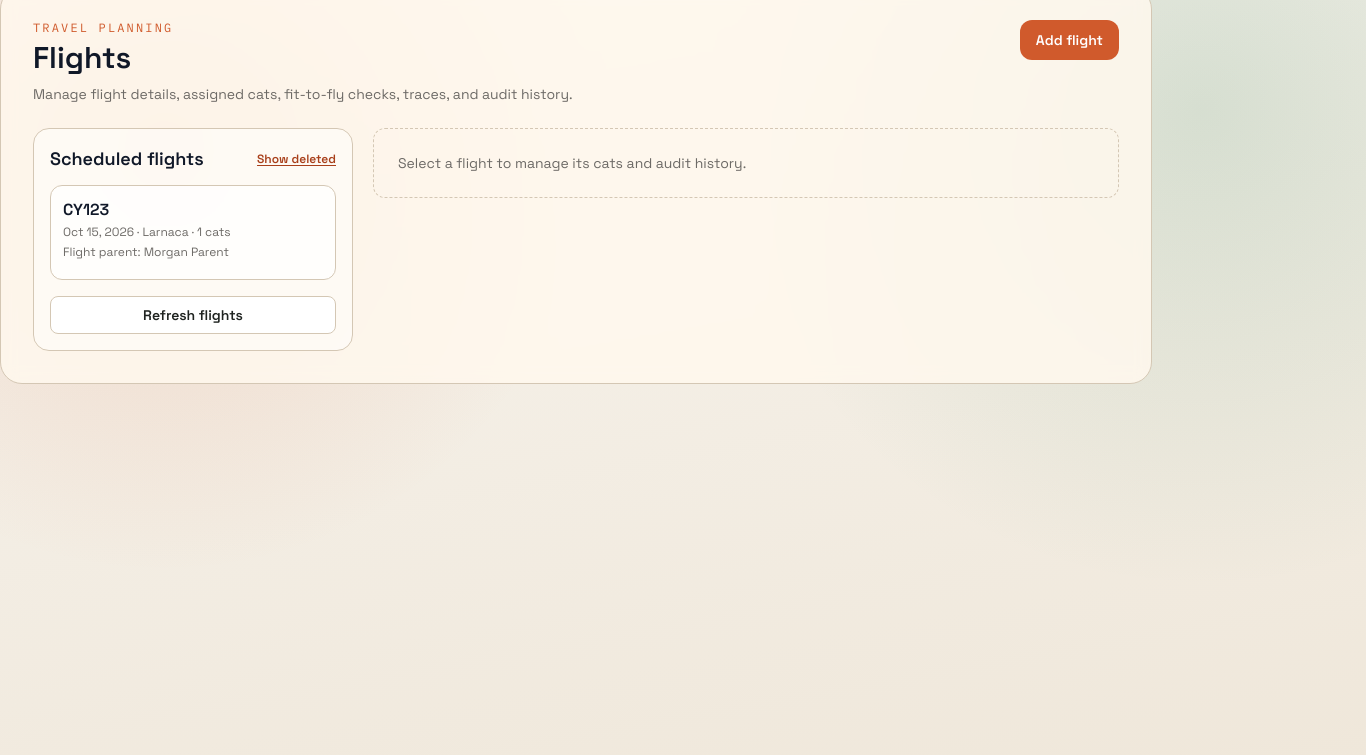
Test: FlightsClient › collapses audit history by default and pages through events
Click the button "CY123" at point(193, 229), box [63,198,323,260]
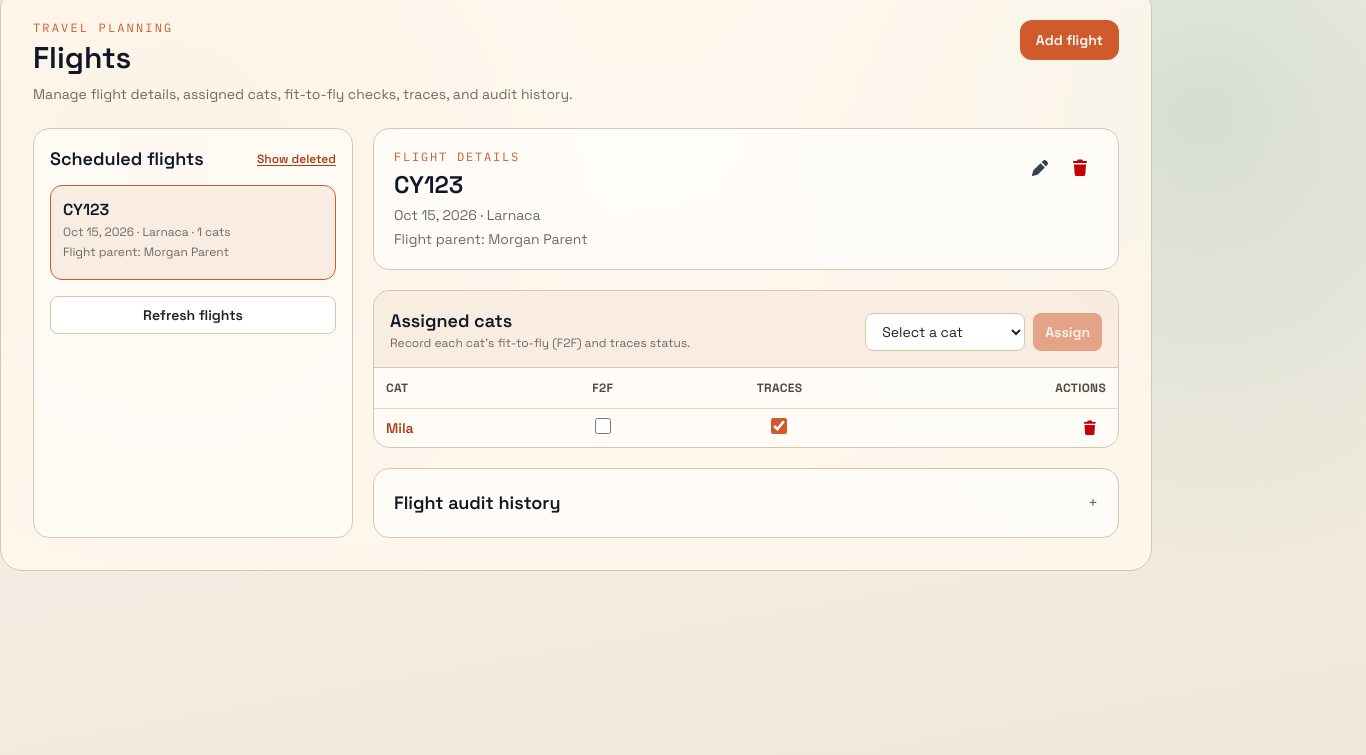
Expected: the text "flight_field_0 · Mila" is not shown
Expected: the heading "CY123" is shown, [394,169,463,200]
Click the button "Flight audit history +" at point(477, 502), box [394,489,1098,517]
(page scrolled)
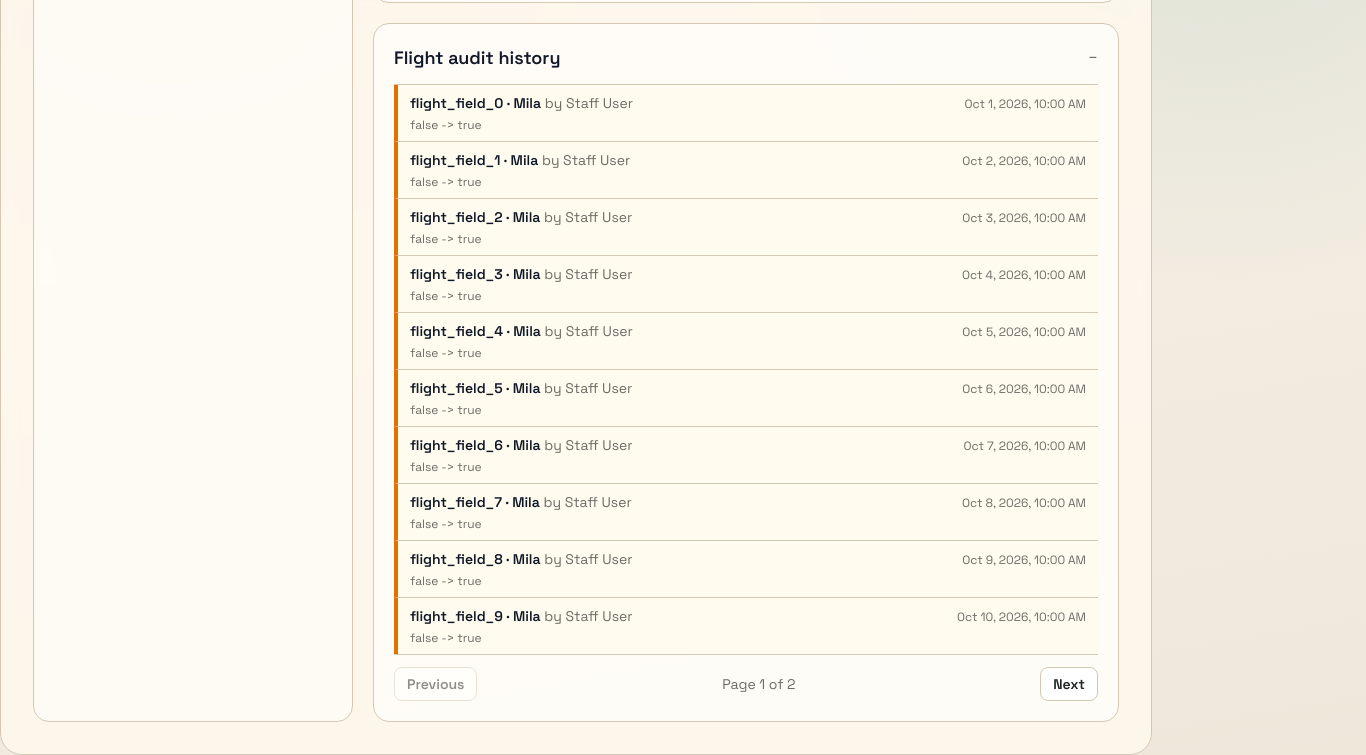
Expected: the text "flight_field_10 · Mila" is not shown
Expected: the text "flight_field_0 · Mila" is shown, [410,93,633,113]
Click the button "Next" at point(1069, 684), box [1040,667,1098,701]
(page scrolled)
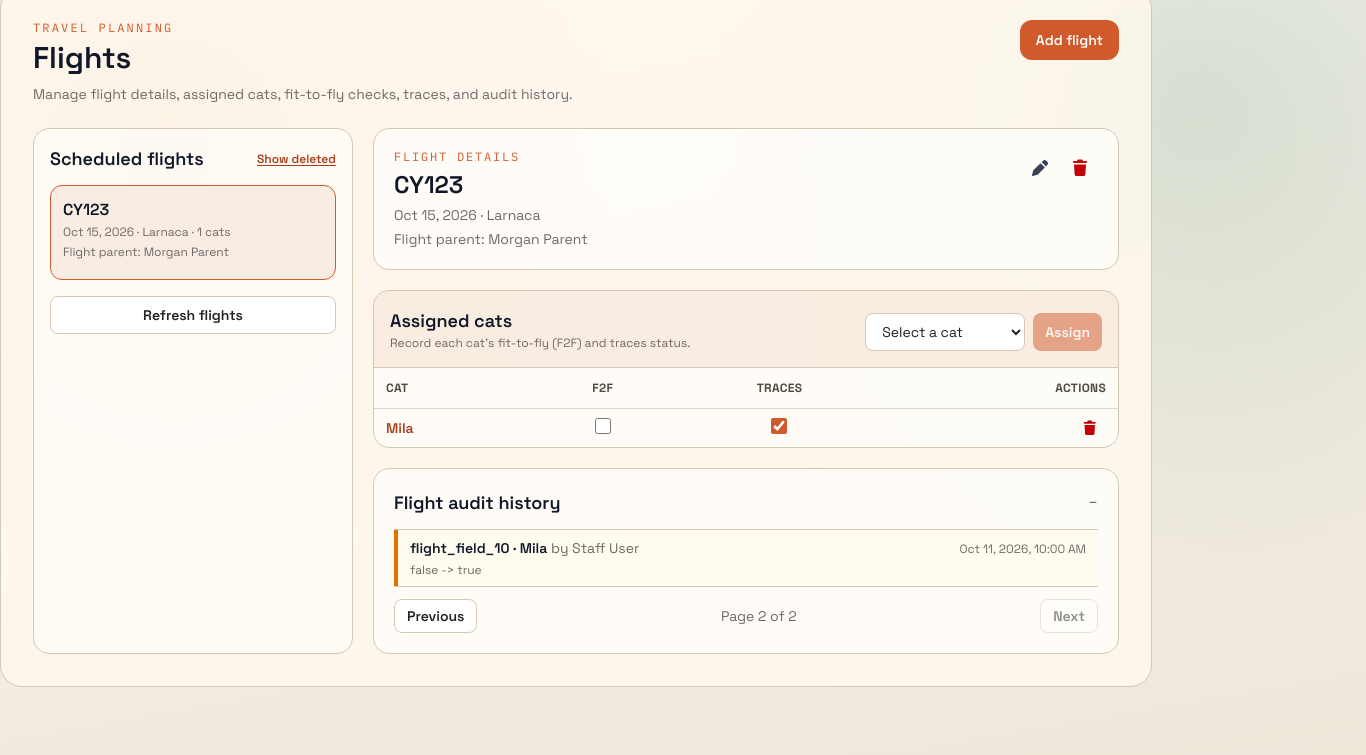
Expected: the text "flight_field_10 · Mila" is shown, [410,538,639,558]
Expected: the text "Page 2 of 2" is shown, [721,606,797,626]
